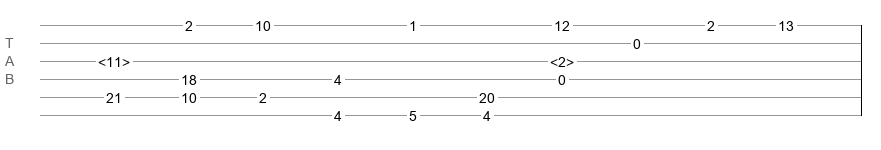0: (558, 72, 566, 82), (633, 36, 641, 46)
1: (409, 18, 417, 28)
10: (181, 90, 197, 100), (255, 18, 271, 28)
12: (554, 18, 570, 28)
13: (778, 18, 794, 28)
18: (181, 72, 197, 82)
2: (185, 18, 193, 28), (259, 90, 267, 100), (707, 18, 715, 28)
20: (479, 90, 495, 100)
21: (106, 90, 122, 100)
4: (334, 108, 342, 118), (334, 72, 342, 82), (483, 108, 491, 118)
5: (409, 108, 417, 118)
harmonic: (98, 54, 130, 64), (550, 54, 574, 64)
